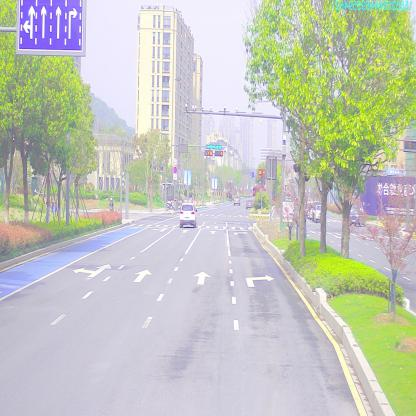traffic-light: (203, 144, 223, 150), (206, 148, 214, 158), (215, 151, 224, 156)
